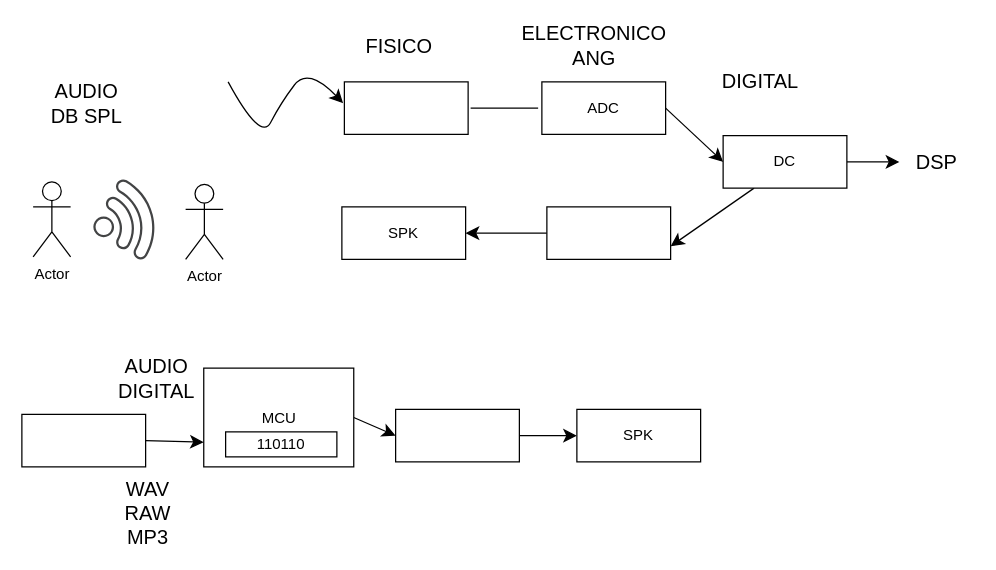
Image size: 996x570. Some labels were removed from this diagram. Each missing label, with the box of its shape:
AMP: (394, 408, 519, 462)
DAC: (546, 206, 671, 259)
MIC: (343, 81, 468, 134)
PC: (21, 413, 146, 467)
